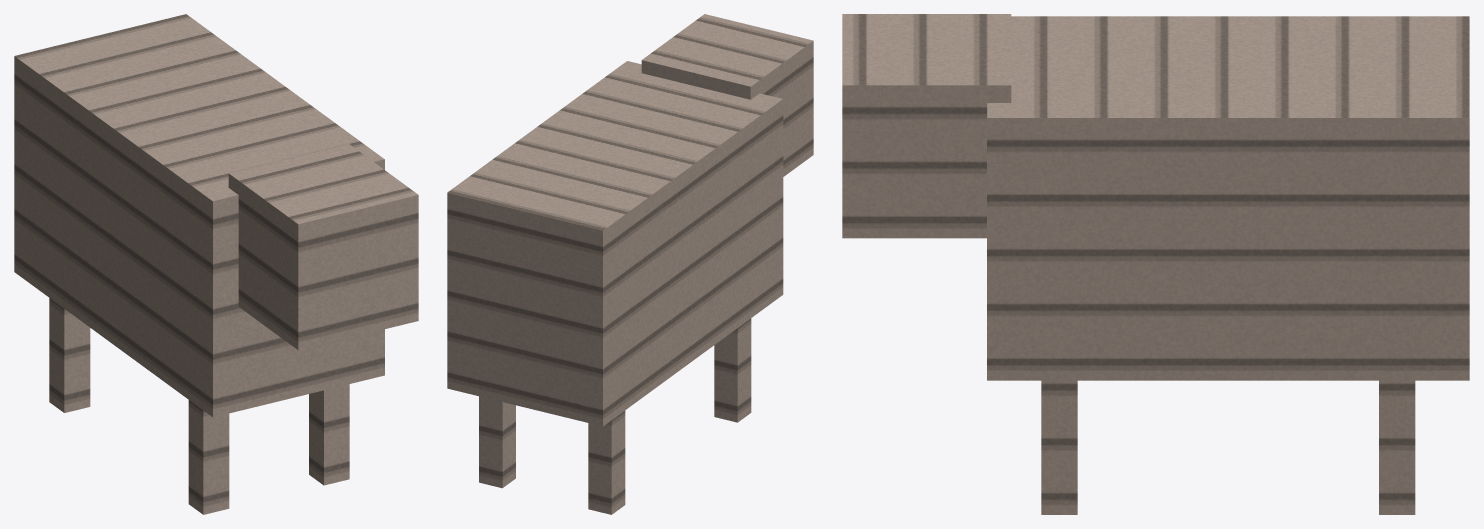
File: animal_pig.glb
The picture shows the model from 3 angles, left to right: view 1: azimuth 30°, elevation 25°; view 2: azimuth 150°, elevation 25°; view 3: azimuth 270°, elevation 25°; orthographic projection. The views are drawn at different scales.
Parts seen in each view (by area): view 1: animal_pig-col; view 2: animal_pig-col; view 3: animal_pig-col.
Boxes of the visible parts, x1,y1,x2,y2 form: animal_pig-col: (14, 14, 418, 514); animal_pig-col: (447, 14, 813, 514); animal_pig-col: (842, 14, 1469, 514).
Bounding box in the file's own units: 0.5 × 0.965 × 1.3.
Materials: 1 (1 with a texture image).
